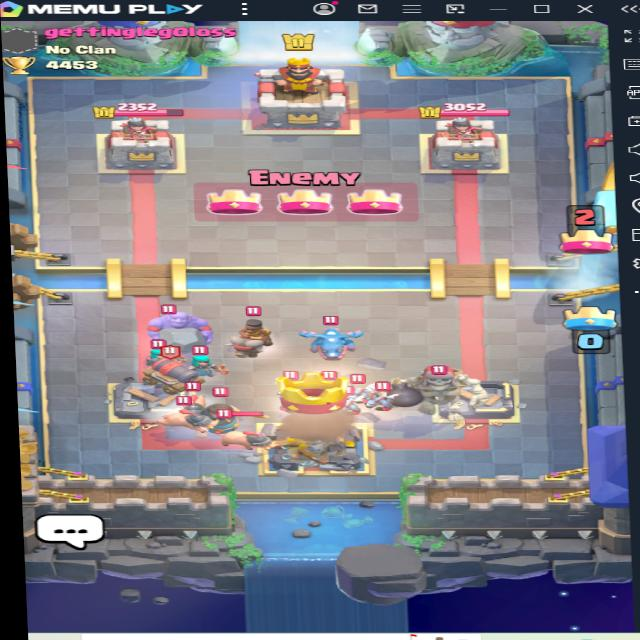bowler: (138, 295, 227, 356)
cannon-cart: (143, 342, 190, 384)
electro-dragon: (299, 315, 378, 365)
giant-skeleton: (392, 347, 495, 416)
minion: (362, 382, 396, 411), (338, 388, 366, 417), (342, 382, 371, 398)
ram-rider: (221, 306, 269, 359)
rascal-boy: (182, 390, 255, 434)
rascal-girl: (184, 349, 225, 376), (140, 335, 178, 362)
royal-hogs: (152, 411, 220, 432), (226, 420, 272, 447), (168, 386, 213, 409)
